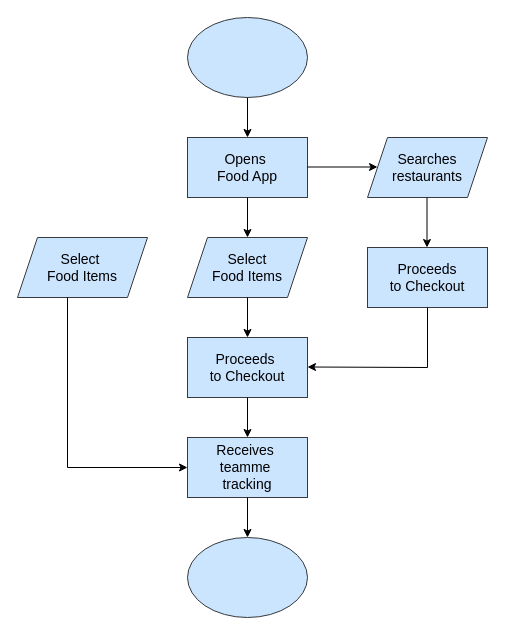
This 505x635 diagram has some shape labels left out. Each missing label, with the centre of its shape:
"Feels Hungry" belongs at point (247, 57).
"Order Delivered" belongs at point (247, 577).
